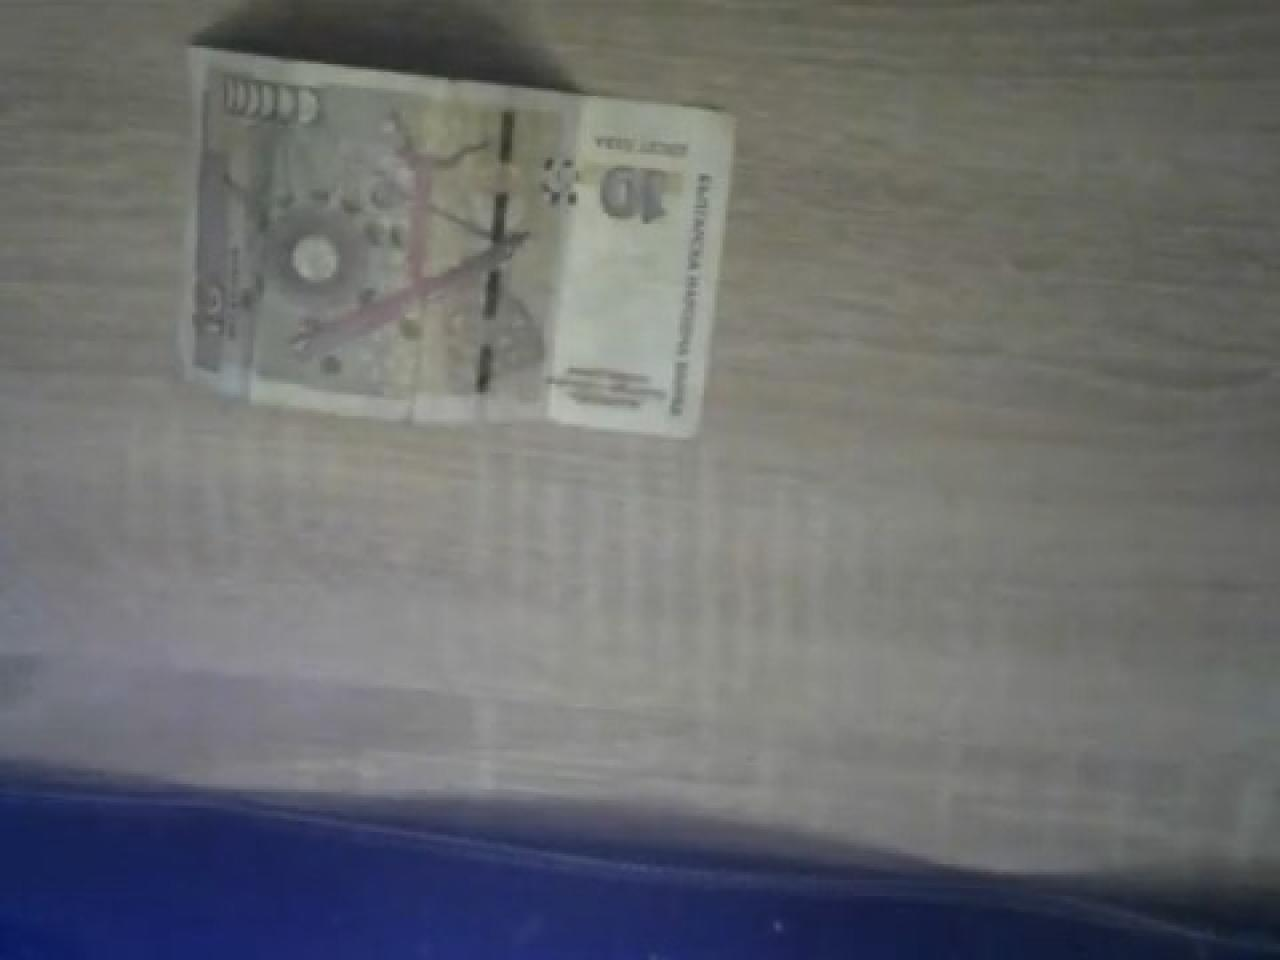10leva: (178, 40, 739, 438)
